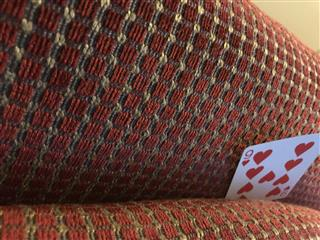NineOfHearts: (223, 131, 320, 200)
